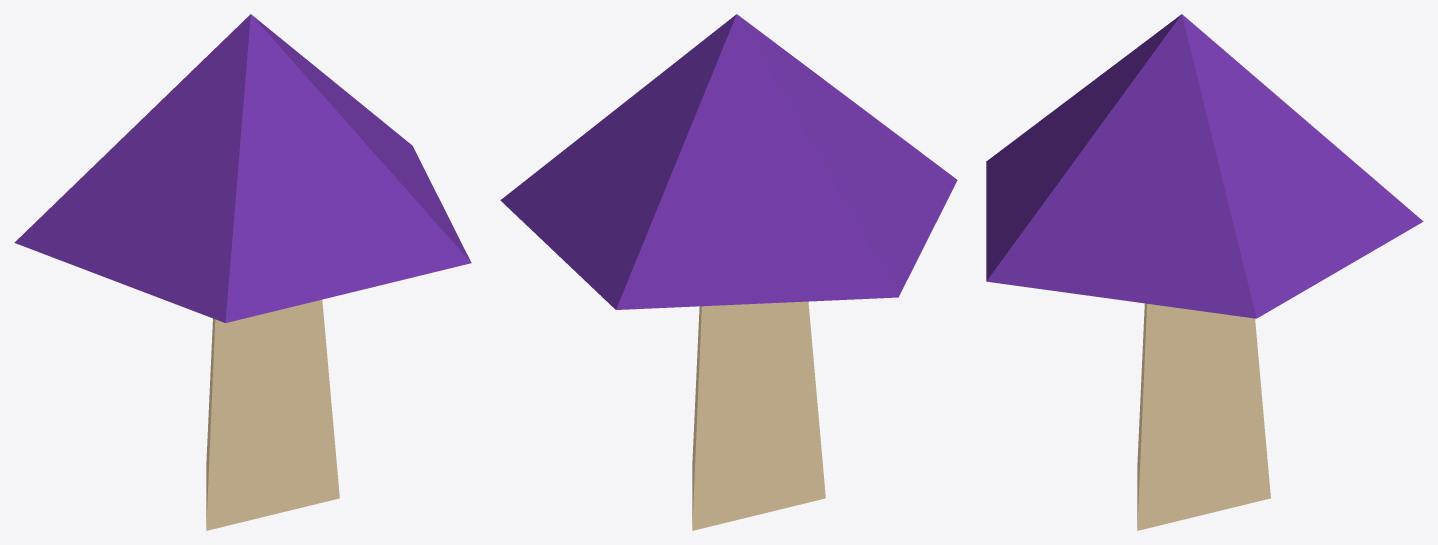
File: Mushroom.fbx
The picture shows the model from 3 angles, left to right: view 1: azimuth 30°, elevation 25°; view 2: azimuth 150°, elevation 25°; view 3: azimuth 270°, elevation 25°; orthographic projection.
Visible parts, largest first — view 1: Mushroom; view 2: Mushroom; view 3: Mushroom.
Part boxes in pixels (<box>): Mushroom: <box>14,14,471,530</box>; Mushroom: <box>500,14,957,530</box>; Mushroom: <box>986,14,1423,530</box>.
Bounding box in the file's own units: 0.7228 × 0.84 × 0.6874.
1 material, 1 textured.
